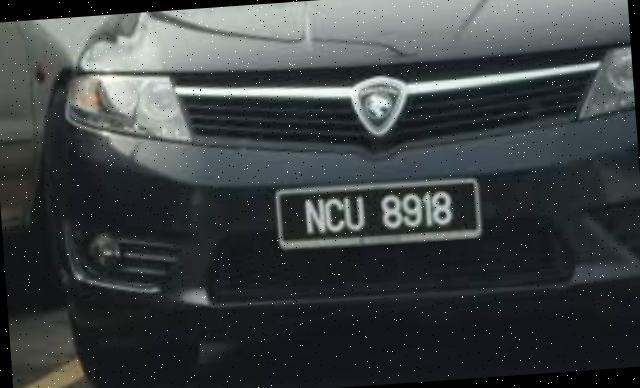License_Plate: (265, 165, 480, 262)
car: (44, 1, 640, 370)
